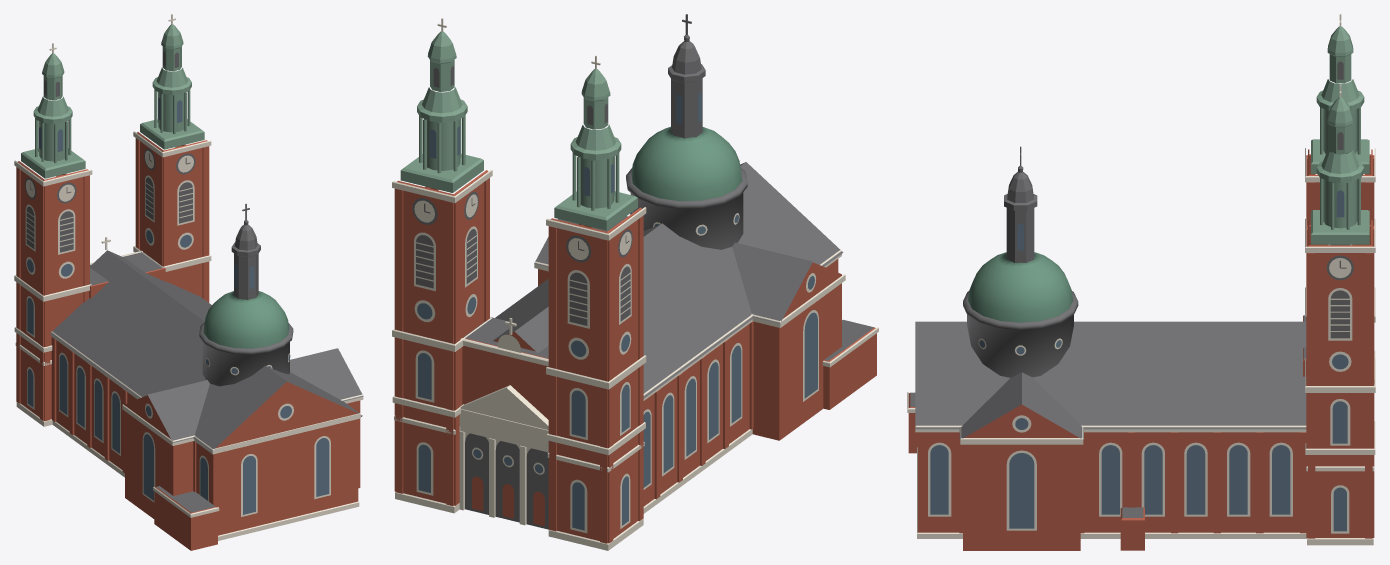
The model's file is cin-mother-of-god.glb.
3 renders of one model, left to right at view 1: azimuth 30°, elevation 25°; view 2: azimuth 150°, elevation 25°; view 3: azimuth 270°, elevation 25°, orthographic. The views are drawn at different scales.
Parts seen in each view (by area): view 1: Mother of God Church; view 2: Mother of God Church; view 3: Mother of God Church.
Part boxes in pixels (x1,y1,x2,y2): Mother of God Church: (14, 14, 363, 550); Mother of God Church: (392, 14, 878, 550); Mother of God Church: (907, 14, 1375, 550).
Bounding box in the file's own units: 32.65 × 59 × 56.05.
